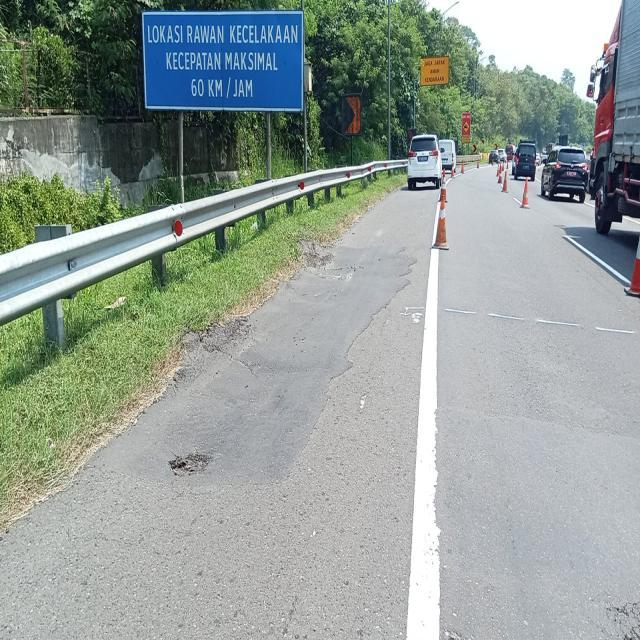Buraco: (167, 449, 226, 480)
